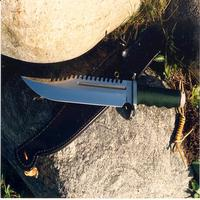knife: (15, 61, 187, 120)
